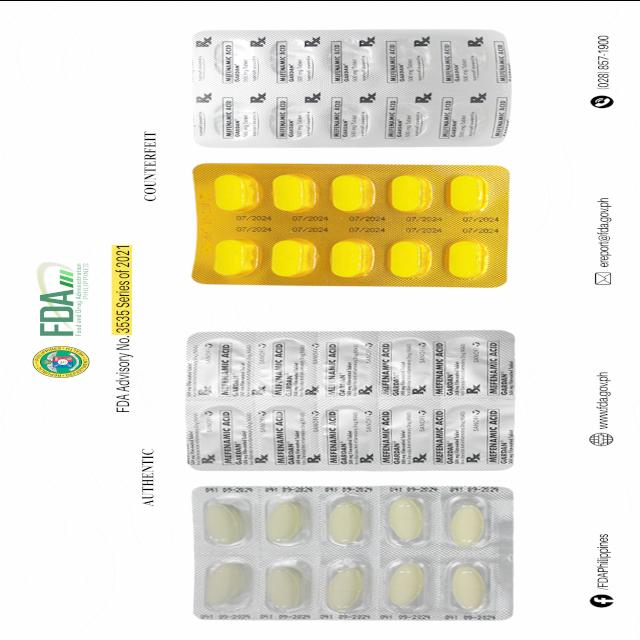authentic: (186, 330, 518, 470), (193, 482, 510, 622)
counterfeit: (190, 162, 510, 284), (189, 27, 512, 147)
